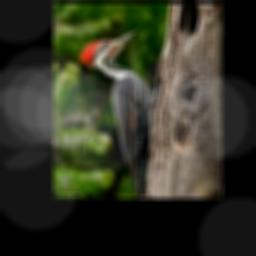Woodpecker: (79, 30, 156, 198)
